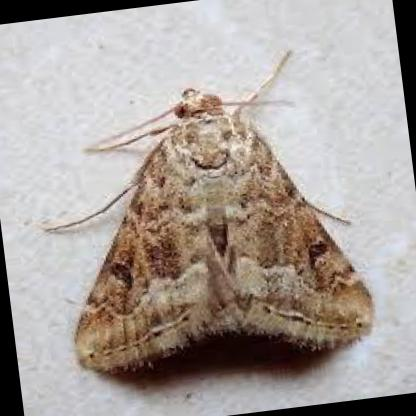Hellula undalis: (22, 43, 381, 384)
